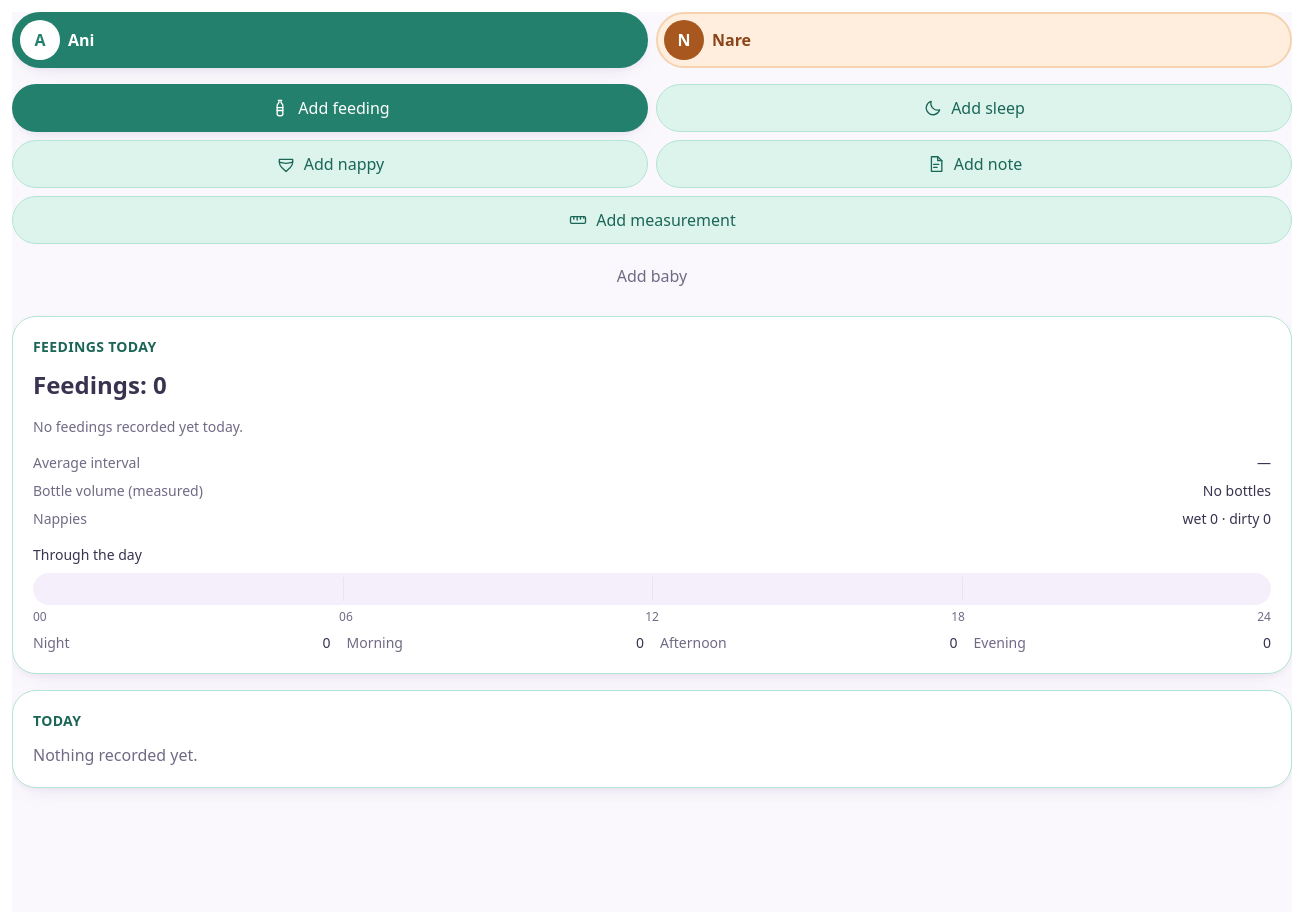
Test case: adding a feeding › requires an amount before anything is sent
The width and height of the screenshot is (1304, 912).
Click the button "Add feeding": (330, 108) [12,84,648,132]
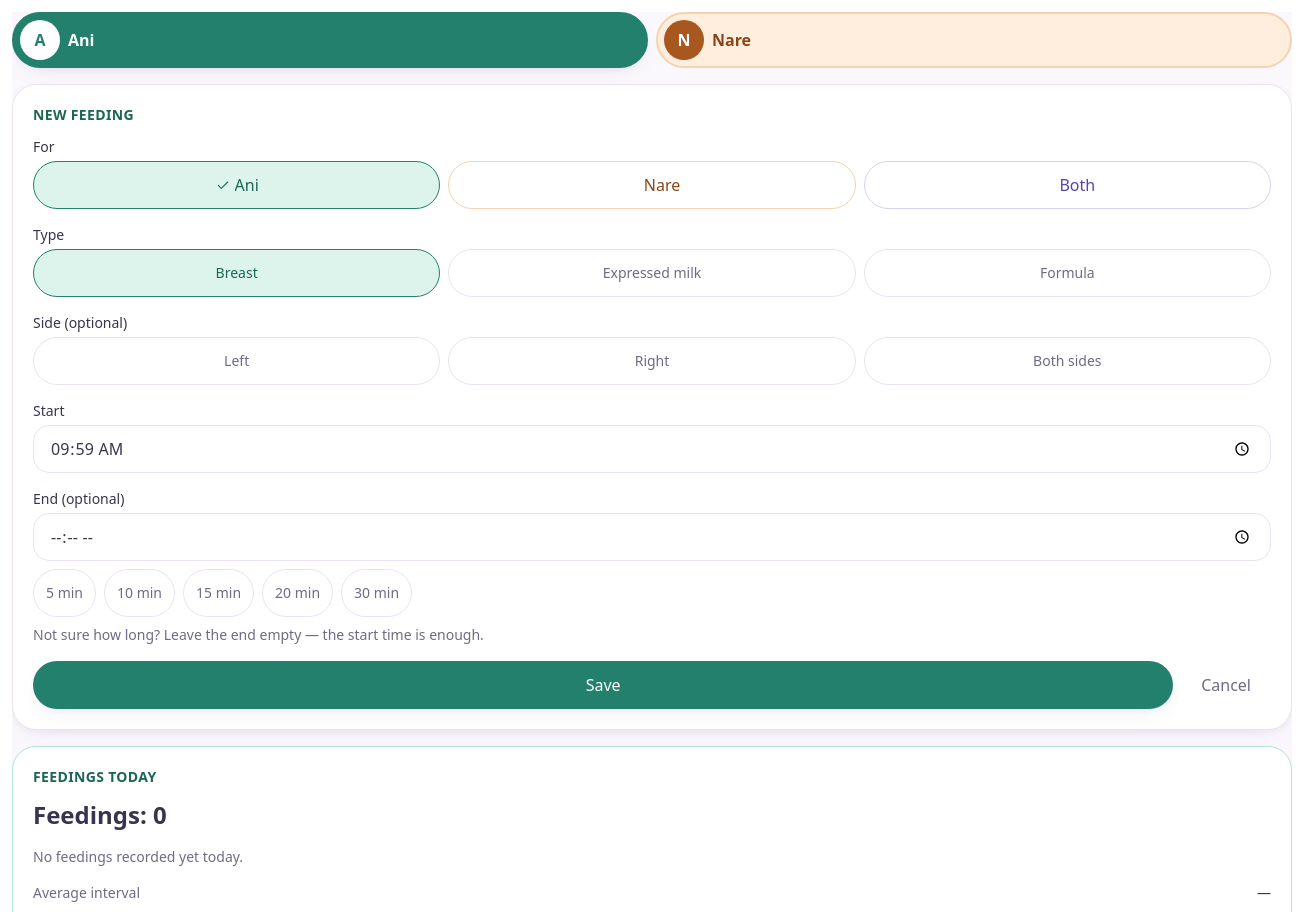
Click the radio button labelled "Formula": (1067, 273) [864,249,1271,297]
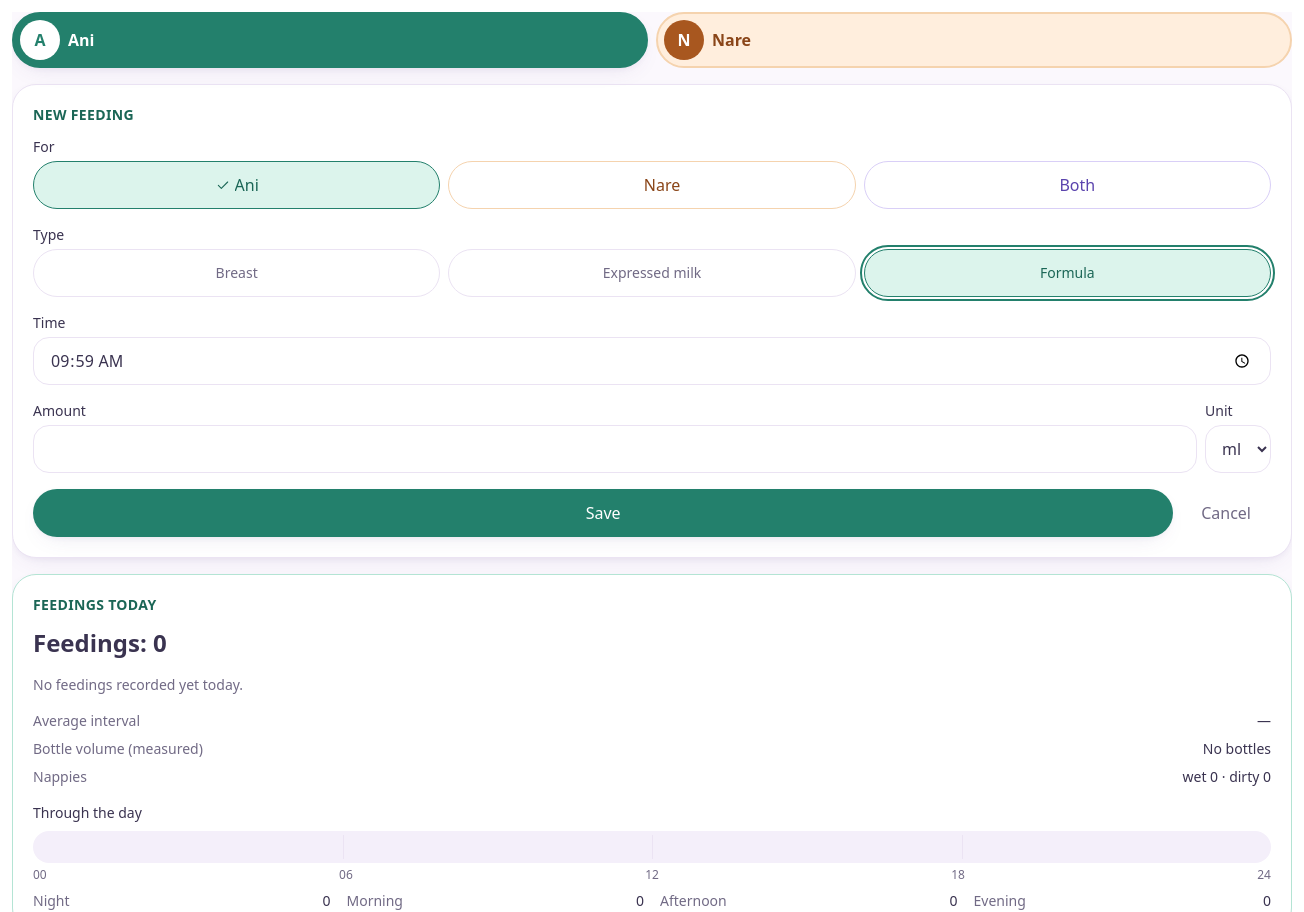
Click the button "Save": (603, 513) [33,489,1173,537]
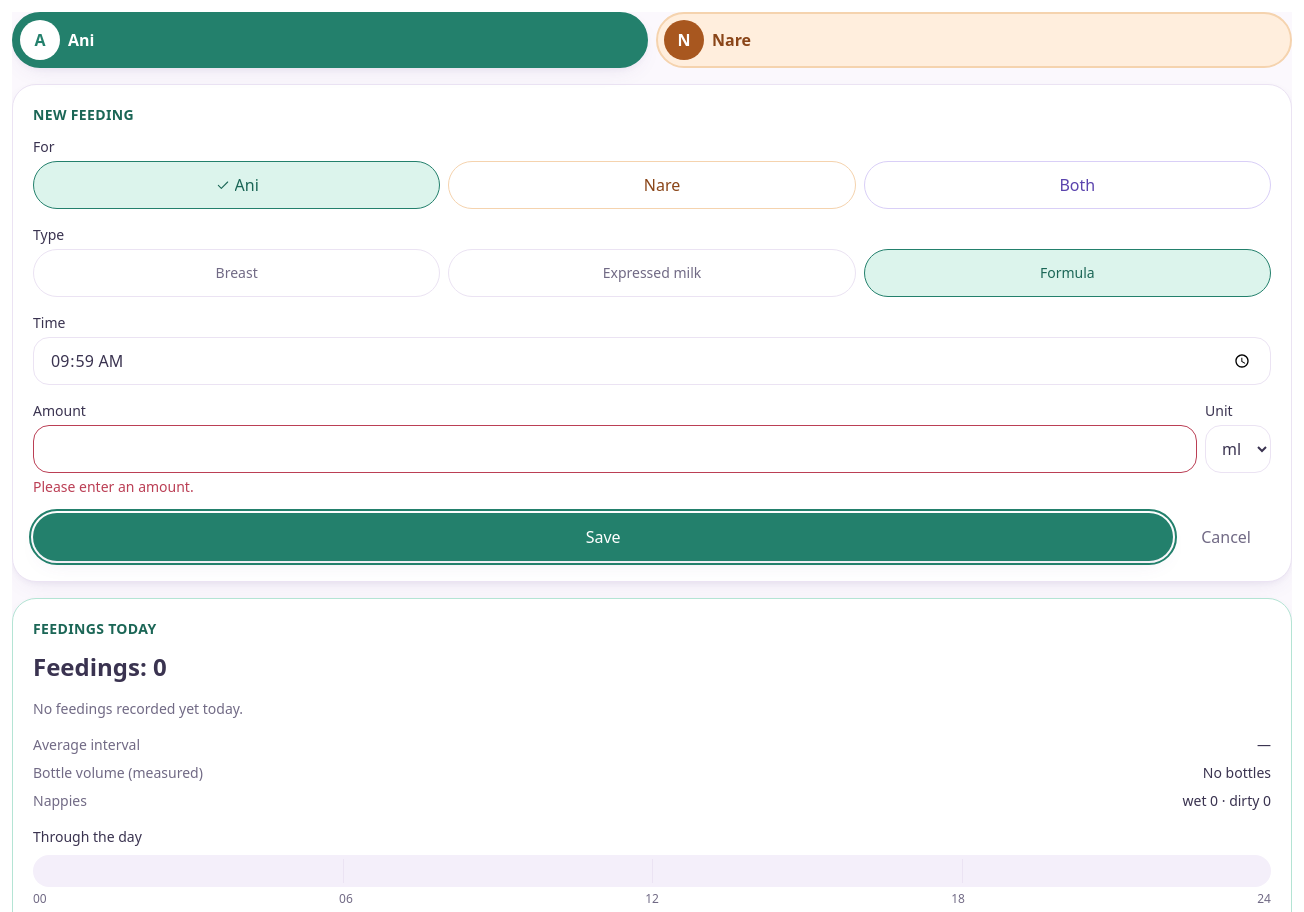
Expected: the number field labelled "Amount" is shown, [33,425,1197,473]
Expected: the text "Please enter an amount." is shown, [33,477,194,496]
